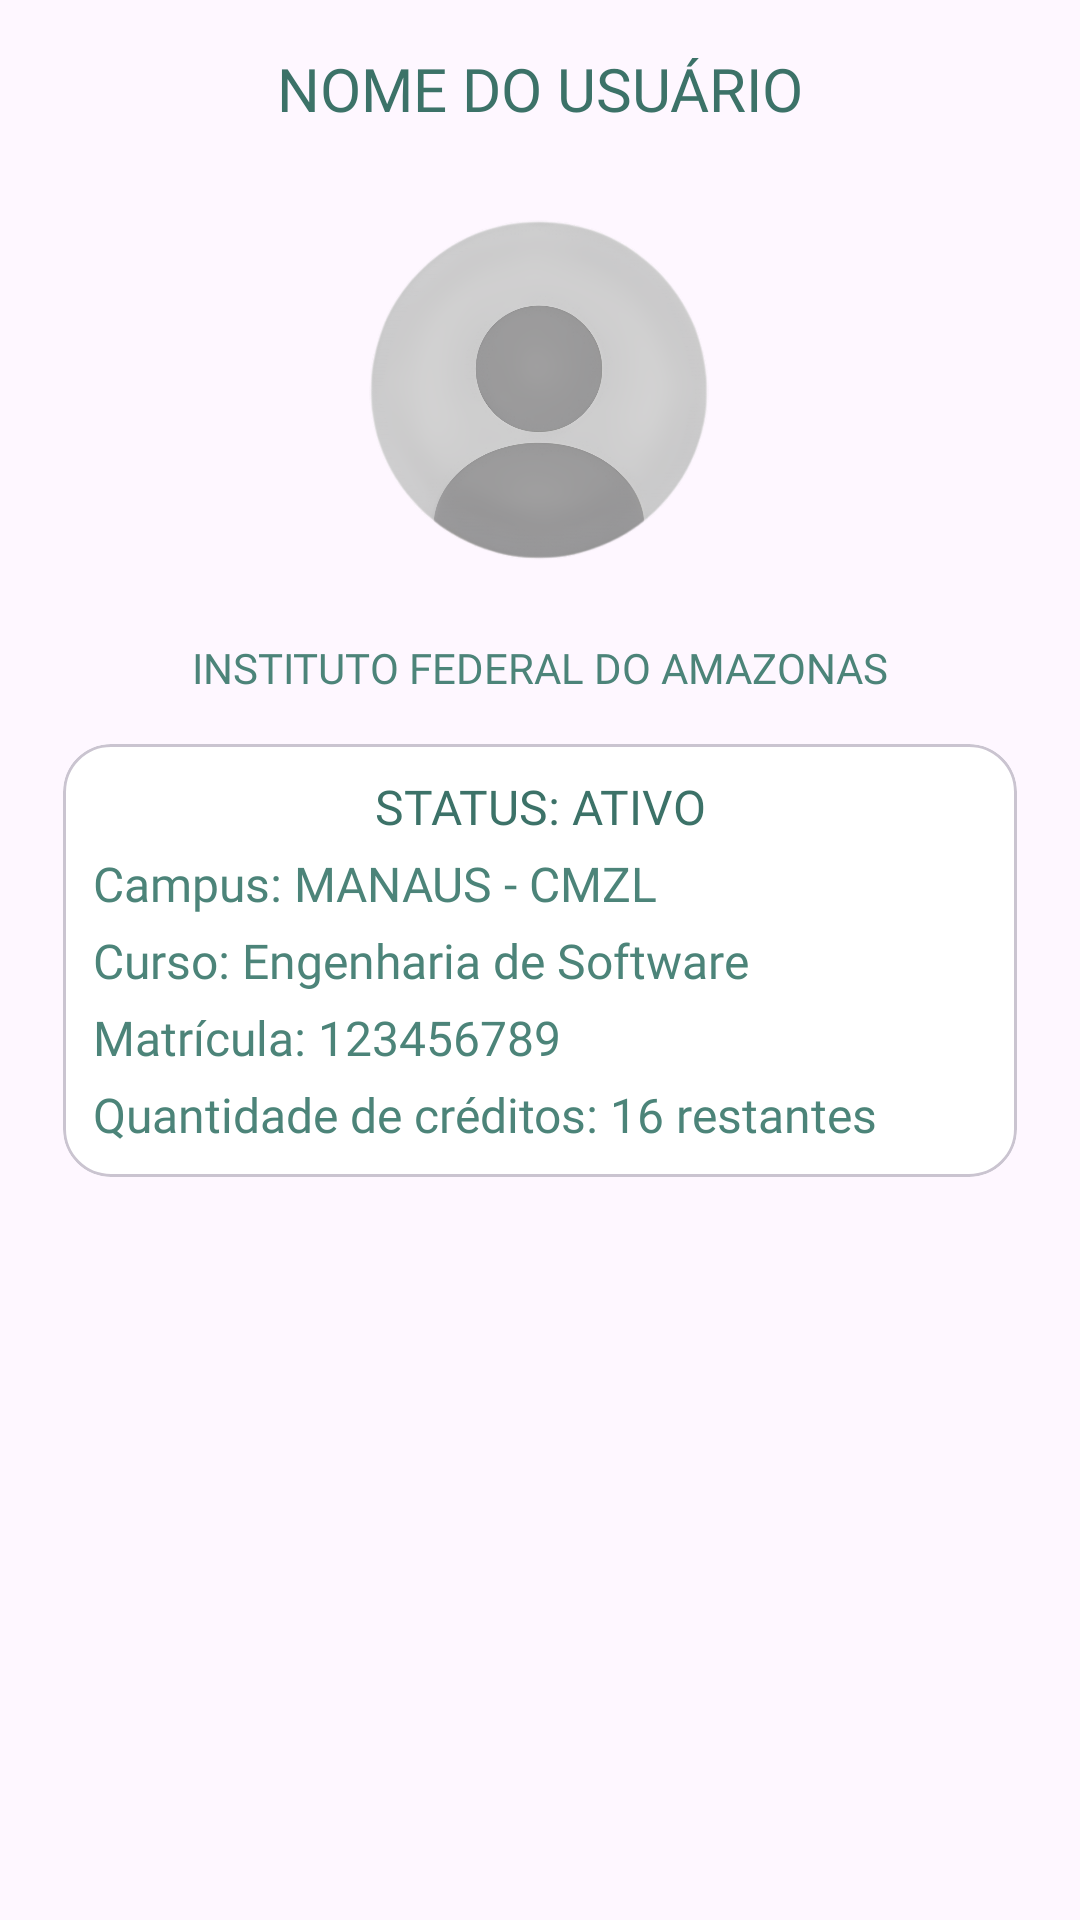

Icons on this 1080px x 1920px Android screen, each with the point to tap as [x,y]:
Profile Picture: [539,390]
